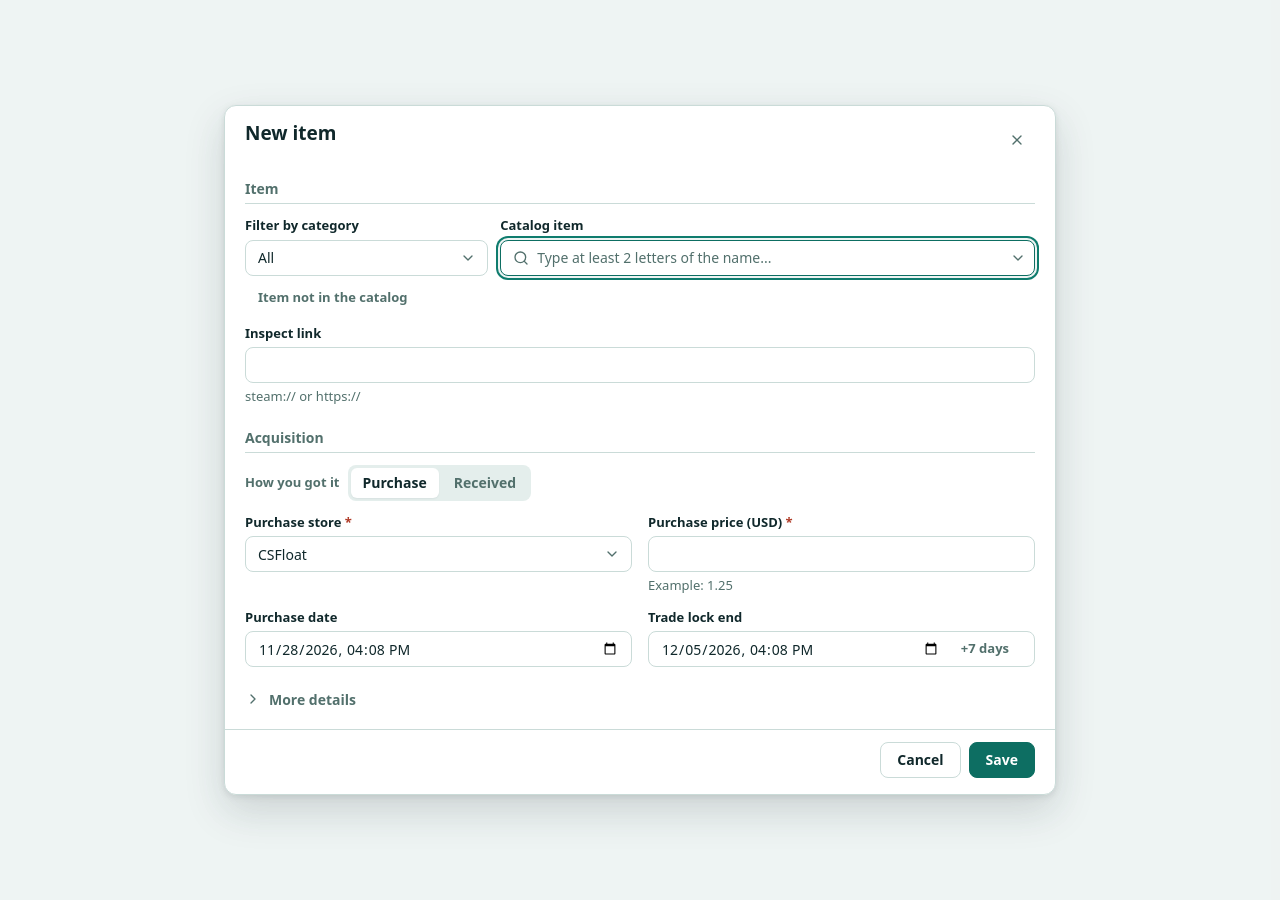
Compra e Ganhei › JPY: "15.5" mostra o erro da moeda sem centavos depois do blur
This screenshot has width=1280, height=900.
Select "Japan shop" in the dropdown labelled "Purchase store *" at (438, 554), box [245, 536, 632, 572]
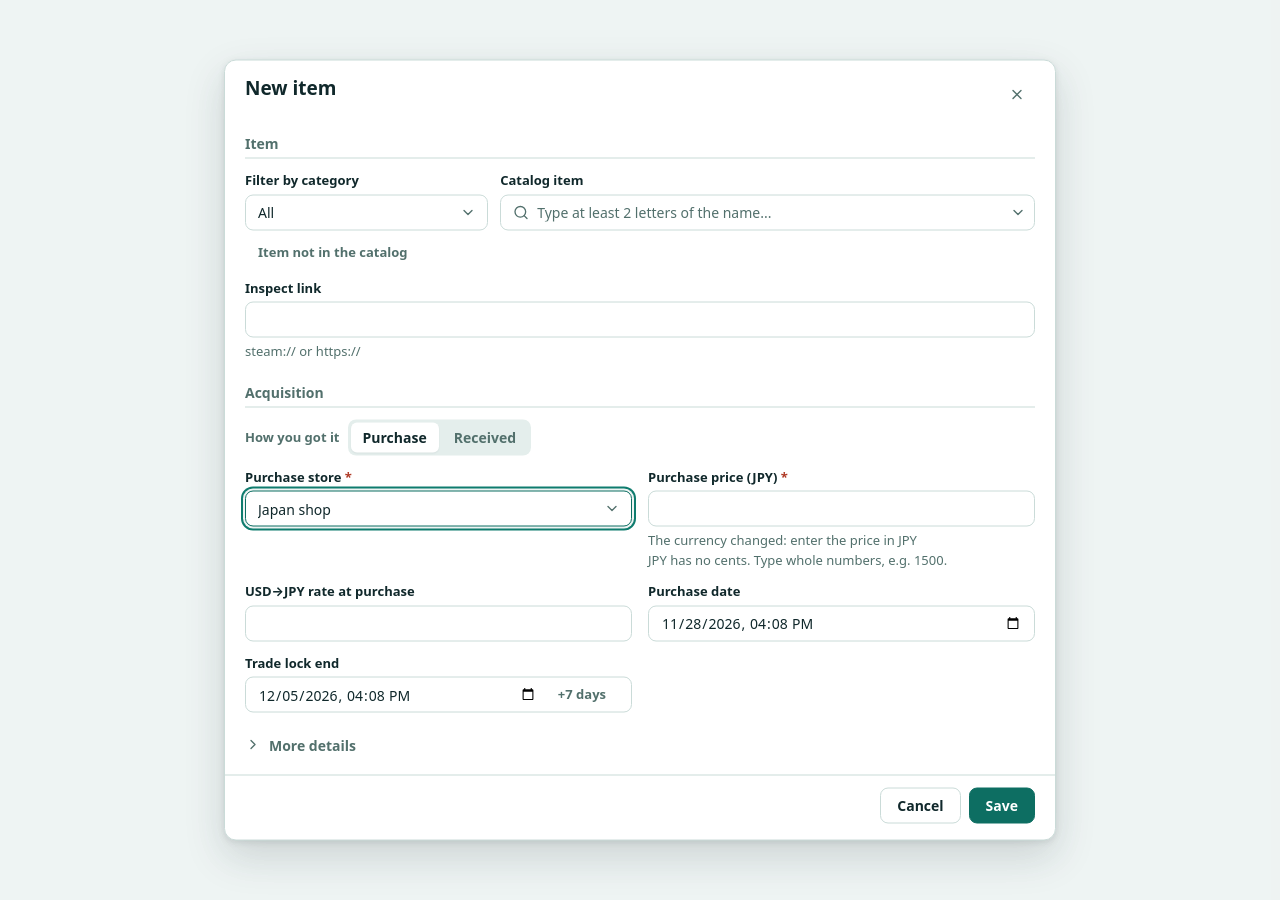
Type "15.5" into the field labelled "Purchase price (JPY) *" at (842, 508), box [661, 492, 1022, 526]
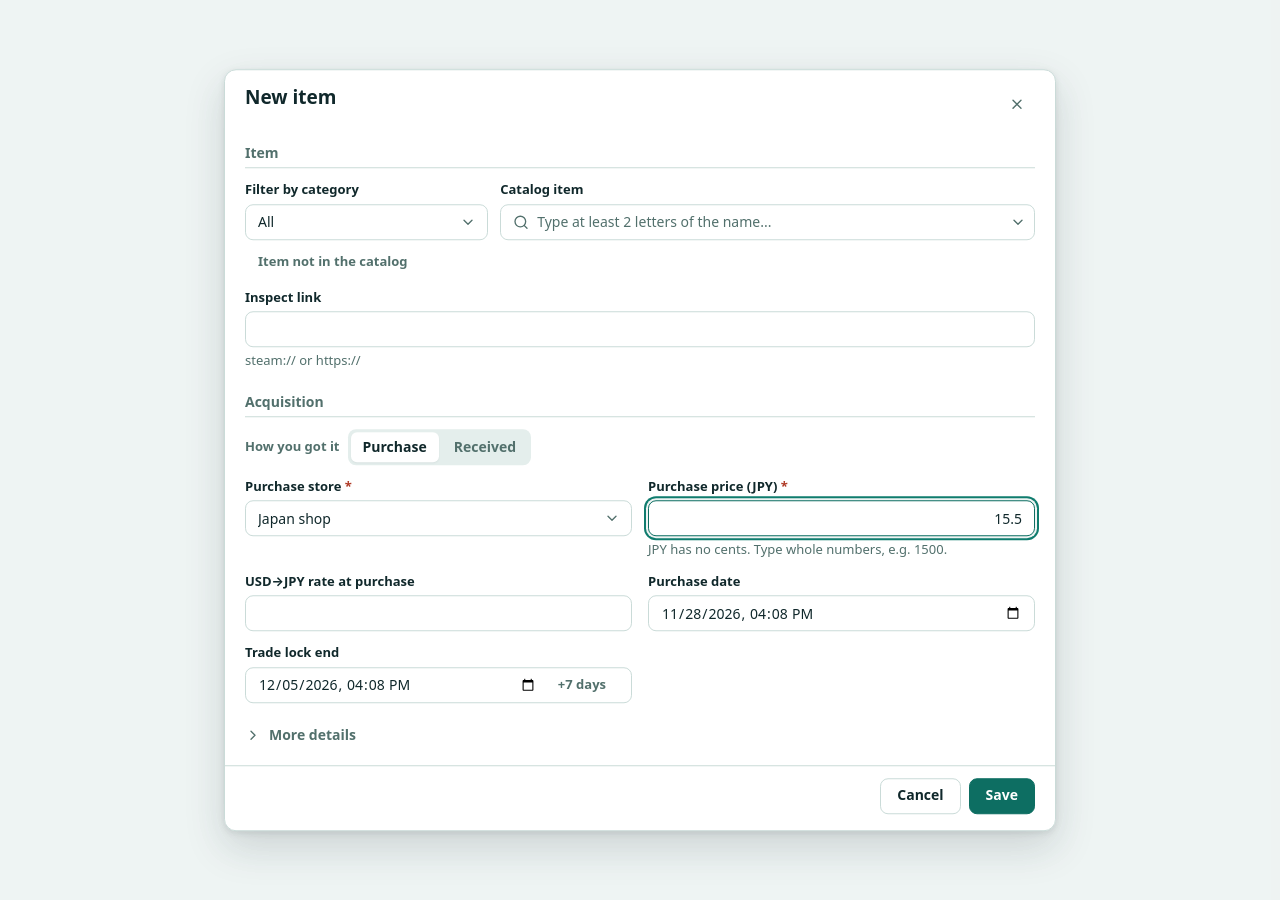
Expected: the text "no decimal places" is not shown
Press Tab
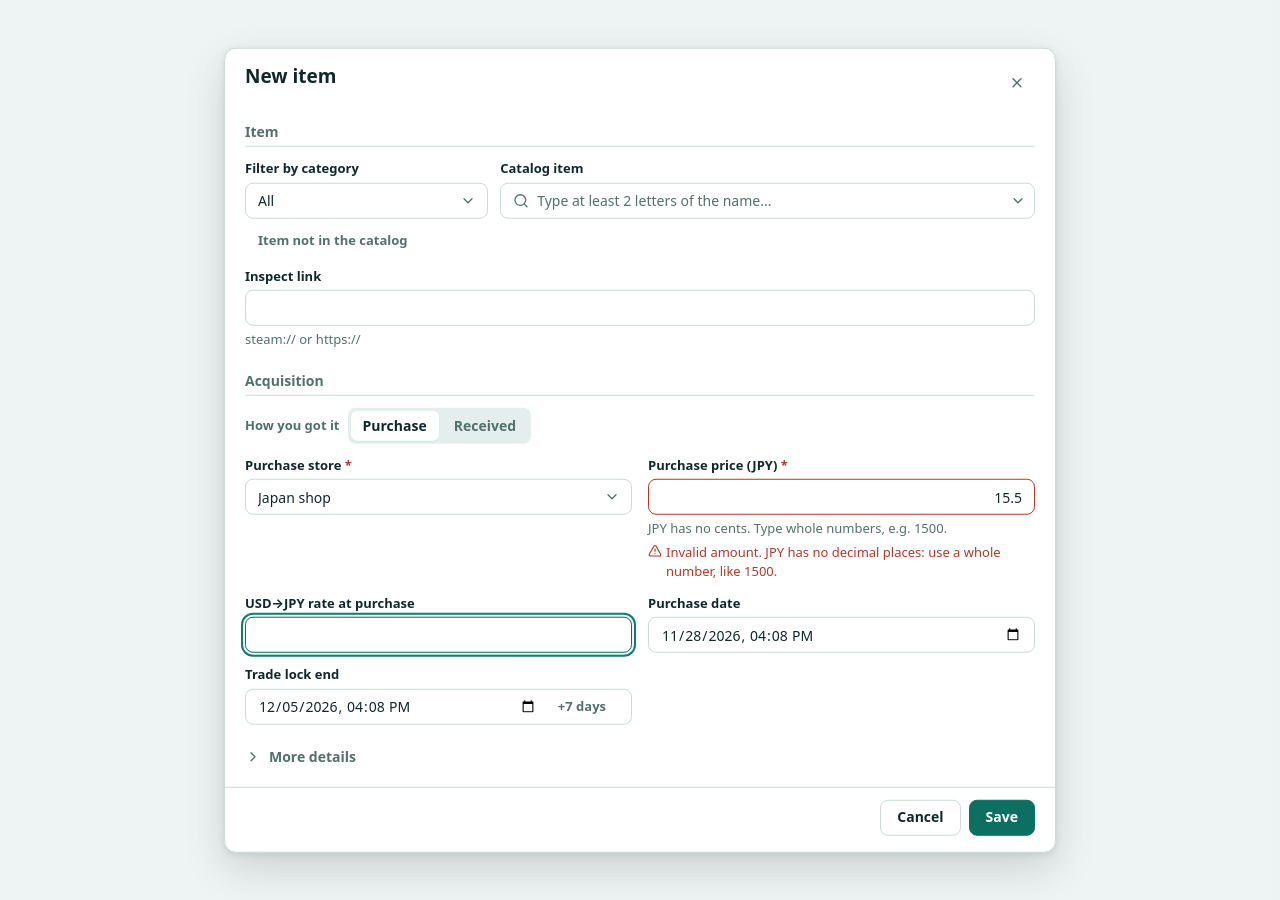
Expected: the text "no decimal places" is shown, [666, 542, 1001, 580]
